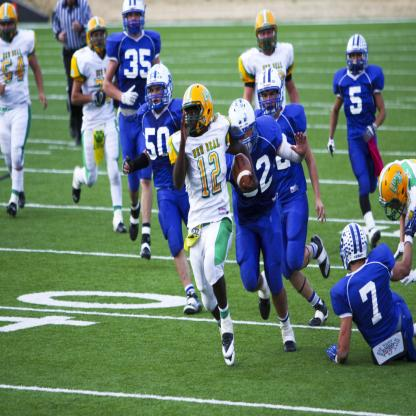Helmet: (226, 98, 259, 156), (378, 160, 408, 222), (176, 88, 218, 130), (256, 64, 284, 118), (143, 63, 173, 111), (340, 222, 368, 272), (345, 33, 369, 76), (255, 9, 277, 54), (121, 0, 147, 37), (88, 16, 108, 54), (0, 2, 18, 43)
